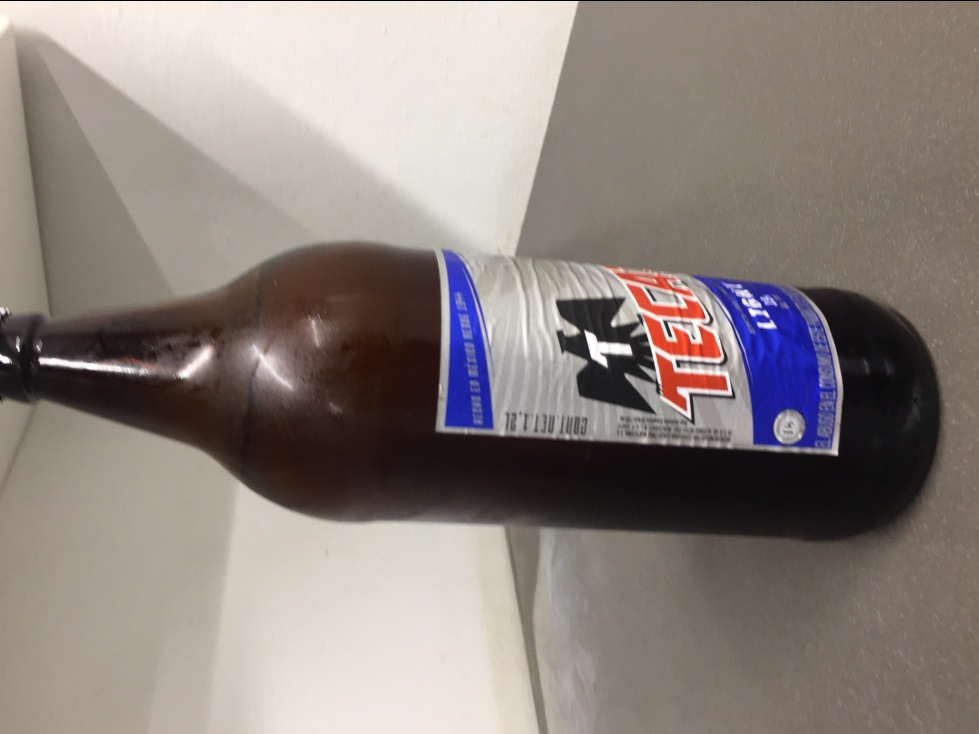tecateC: (4, 241, 939, 542)
